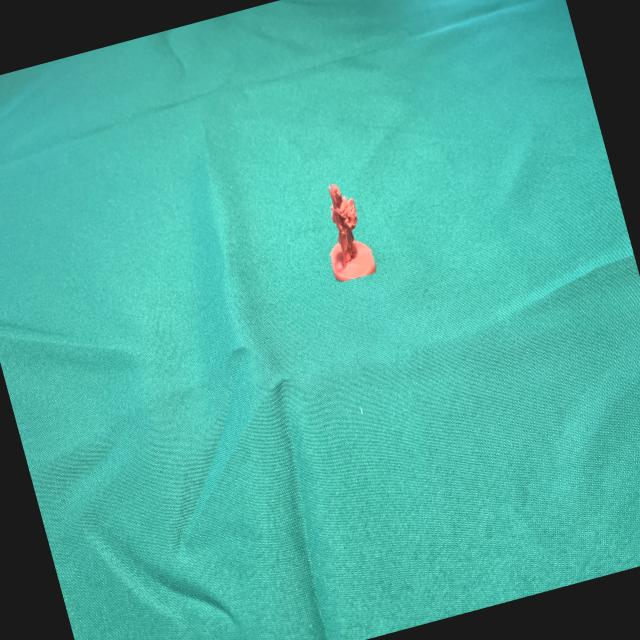amon_follower: (329, 183, 375, 281)
